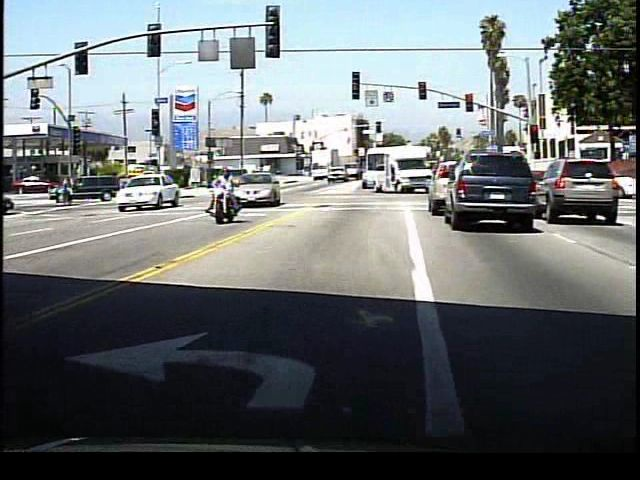person: (211, 170, 244, 225)
